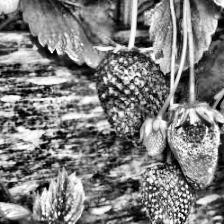Gray Mold: (166, 102, 224, 191)
